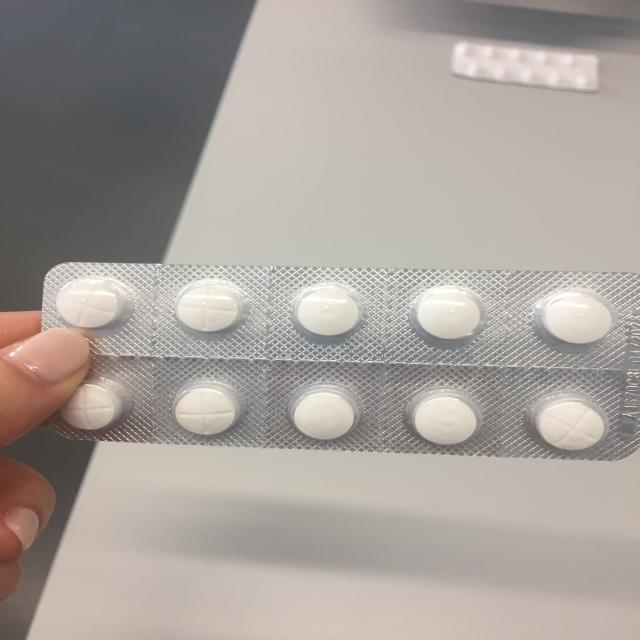Pill: (522, 392, 620, 456), (525, 287, 617, 353), (284, 282, 374, 344), (409, 283, 498, 345), (400, 390, 486, 454), (168, 379, 252, 443), (169, 280, 256, 336), (285, 383, 359, 447), (52, 376, 130, 436), (55, 278, 135, 330)
